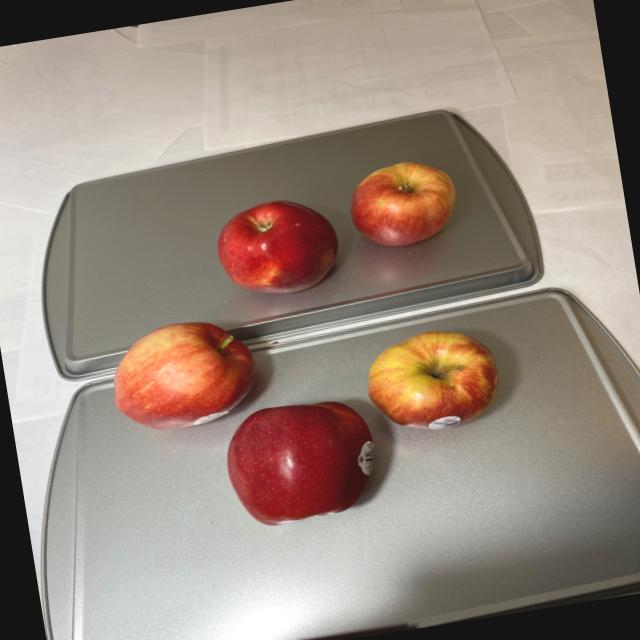apple: (100, 276, 517, 550), (203, 152, 470, 304)
